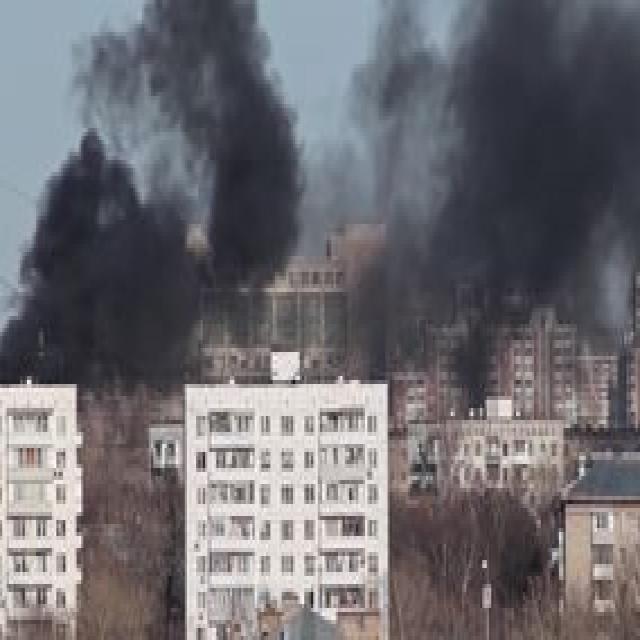Smoke: (462, 61, 616, 255), (32, 195, 175, 358), (216, 56, 281, 278)
